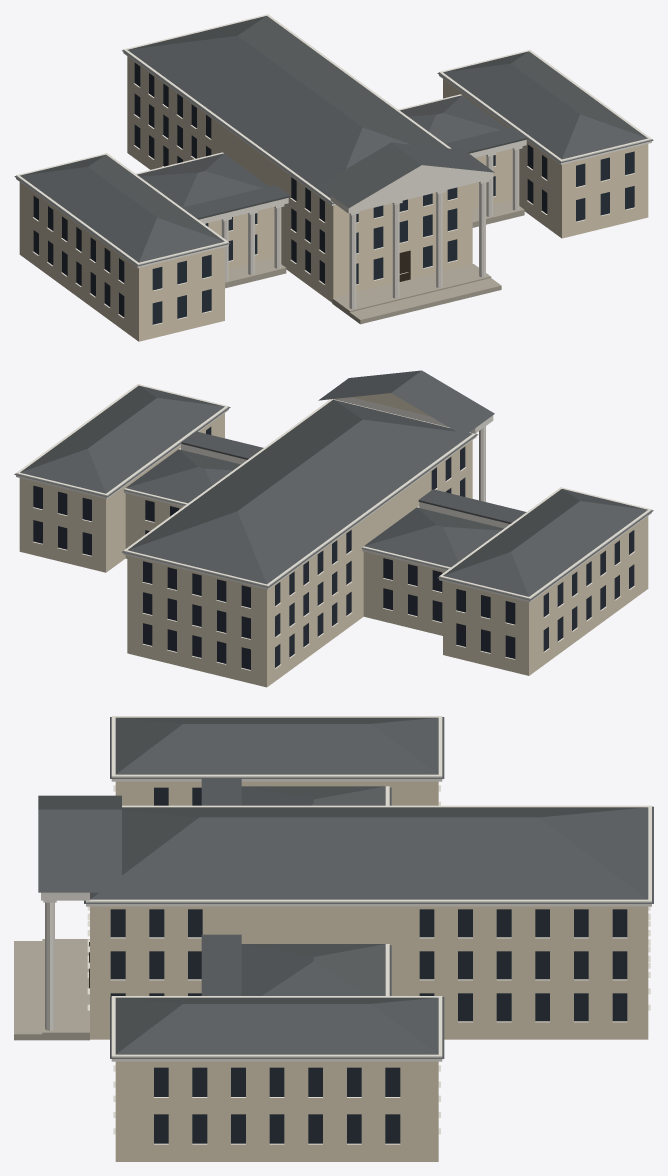
The model's file is old-state-house.glb.
3 renders of one model, top to bottom at view 1: azimuth 30°, elevation 25°; view 2: azimuth 150°, elevation 25°; view 3: azimuth 270°, elevation 25°, orthographic. The views are drawn at different scales.
Visible parts, largest first — view 1: old_roof, old_wall, old_glass, old_trim, old_stone, old_column; view 2: old_roof, old_wall, old_glass, old_trim, old_column; view 3: old_roof, old_wall, old_glass, old_trim, old_stone, old_column.
Part boxes in pixels (x1,y1,x2,y2): old_roof: (14, 16, 653, 266); old_wall: (19, 56, 648, 341); old_glass: (33, 63, 634, 324); old_trim: (16, 14, 651, 325); old_stone: (225, 200, 524, 324); old_column: (221, 149, 519, 308); old_roof: (14, 370, 653, 600); old_wall: (19, 393, 648, 687); old_glass: (33, 427, 634, 669); old_trim: (16, 384, 651, 670); old_column: (479, 426, 485, 501); old_roof: (38, 717, 653, 1058); old_wall: (90, 781, 648, 1161); old_glass: (110, 787, 627, 1143); old_trim: (41, 716, 651, 1144); old_stone: (14, 939, 89, 1040); old_column: (45, 902, 54, 1030).
Size of the model in its own units: 62.9 by 15.76 by 49.75.
